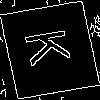K: (24, 25, 81, 67)
